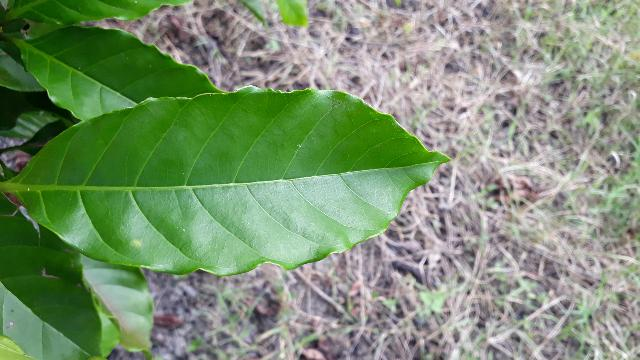rust_level_1: (9, 90, 449, 279)
